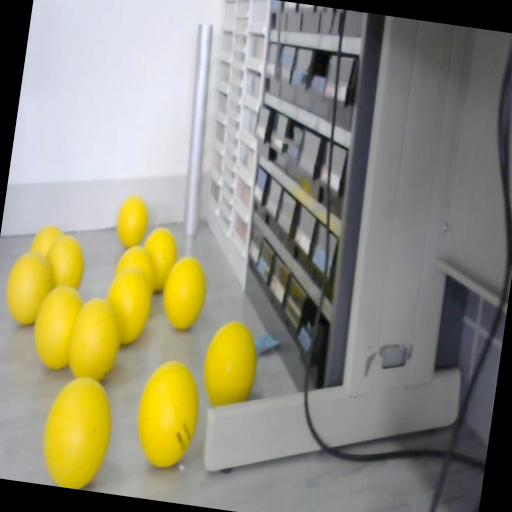FUEL: (36, 370, 120, 490), (130, 356, 206, 472), (198, 318, 262, 412), (28, 282, 86, 372), (100, 262, 156, 348), (2, 248, 59, 330), (158, 253, 212, 332), (42, 232, 90, 293), (138, 225, 181, 293), (113, 194, 151, 250)
